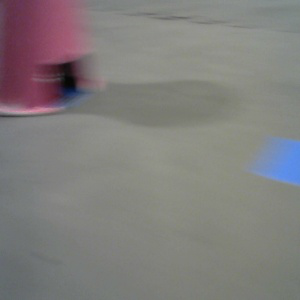middle: (1, 1, 104, 116)
